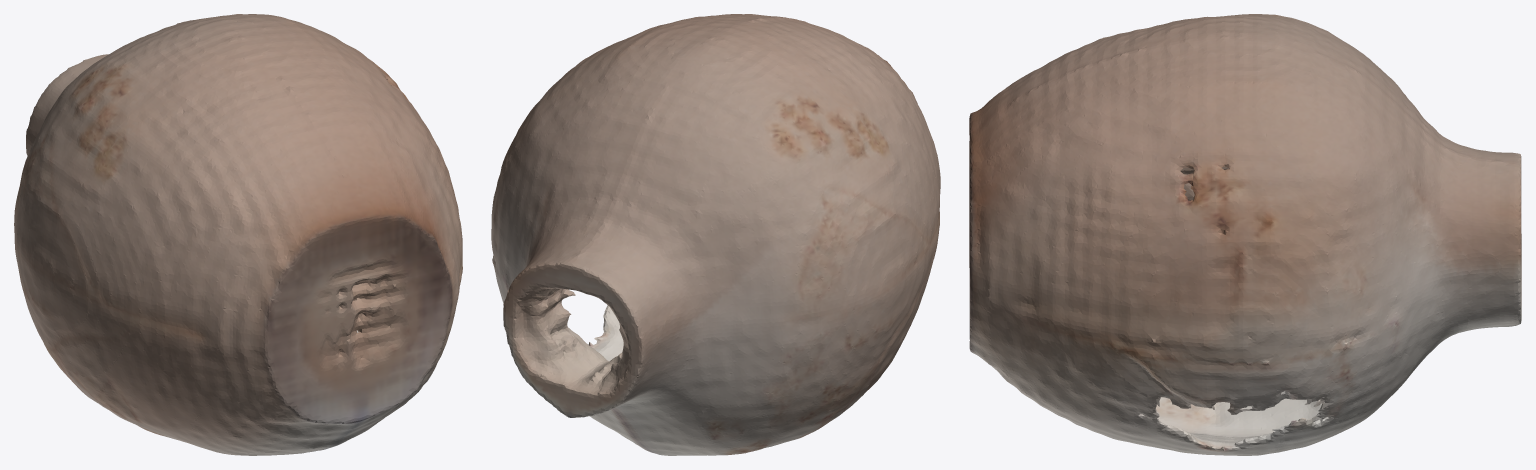
File: demo2.glb
3 views of the same model, side by side, from view 1: azimuth 30°, elevation 25°; view 2: azimuth 150°, elevation 25°; view 3: azimuth 270°, elevation 25° (orthographic). The views are drawn at different scales.
Parts seen in each view (by area): view 1: Screenshot_2026-10-07_192452.obj; view 2: Screenshot_2026-10-07_192452.obj; view 3: Screenshot_2026-10-07_192452.obj.
Part boxes in pixels (x1,y1,x2,y2): Screenshot_2026-10-07_192452.obj: [14, 14, 462, 455]; Screenshot_2026-10-07_192452.obj: [491, 14, 940, 455]; Screenshot_2026-10-07_192452.obj: [969, 14, 1521, 455].
Size of the model in its own units: 1.62 by 1.63 by 1.98.
